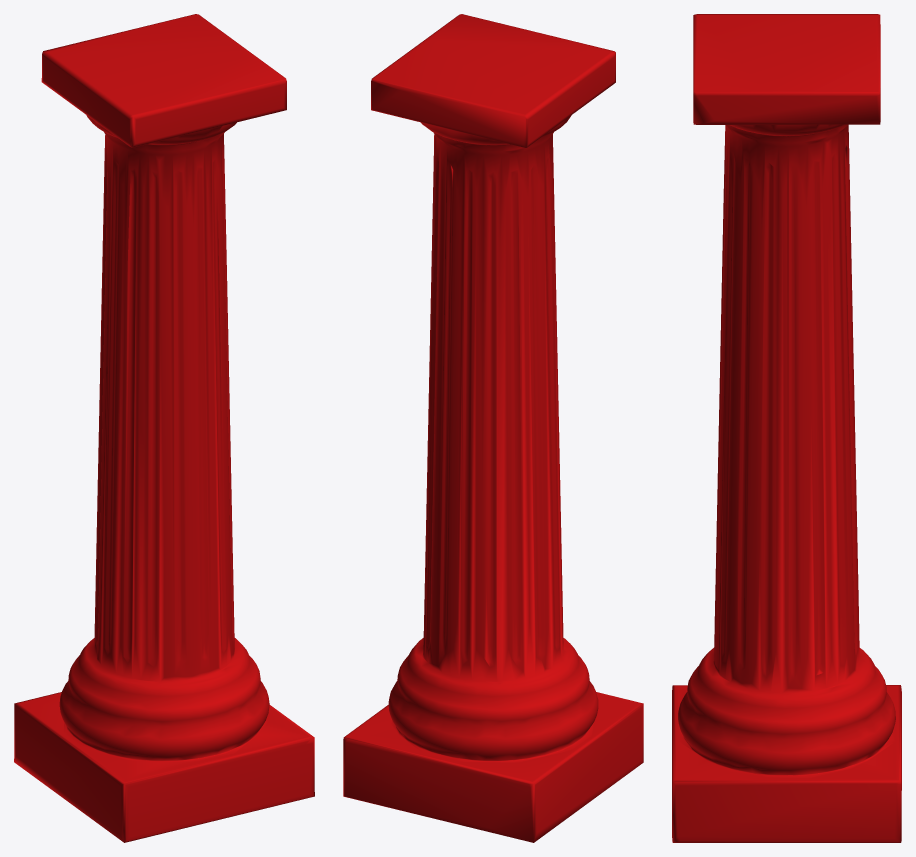
Rendered from columns_001.obj.
3 views of the same model, side by side, from view 1: azimuth 30°, elevation 25°; view 2: azimuth 150°, elevation 25°; view 3: azimuth 270°, elevation 25° (orthographic). The views are drawn at different scales.
Parts seen in each view (by area): view 1: columns_test1; view 2: columns_test1; view 3: columns_test1.
Boxes of the visible parts, bbox=[...] form: columns_test1: bbox=[14, 14, 314, 842]; columns_test1: bbox=[343, 14, 643, 842]; columns_test1: bbox=[672, 14, 901, 842].
Size of the model in its own units: 2 by 7.13 by 2.
